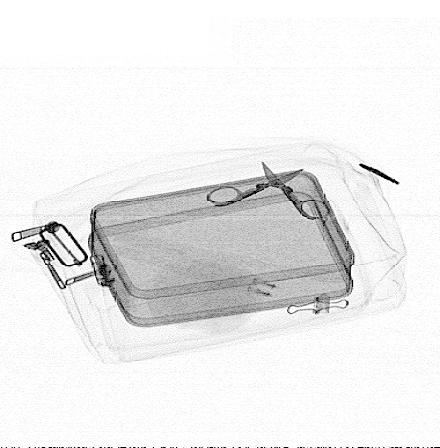Scissors: (203, 159, 331, 221)
